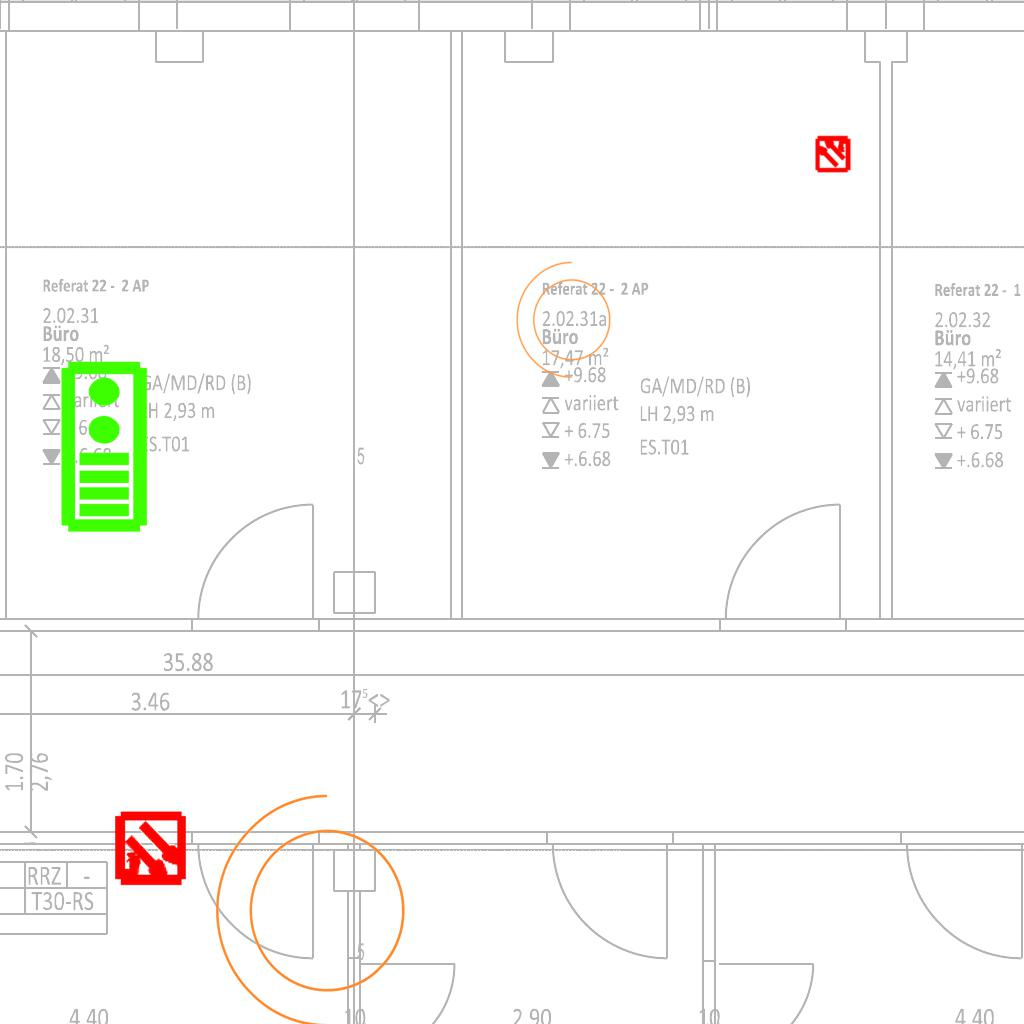Gegensprechanlage_mit_Video: (55, 358, 150, 534)
OT_Multisensormelder_(Kombination_RMO_WMD): (94, 794, 207, 907), (805, 125, 861, 181)
Scheinwerfer_fuer_Alarmbeleuchtung: (205, 785, 430, 1024), (511, 257, 623, 389)
